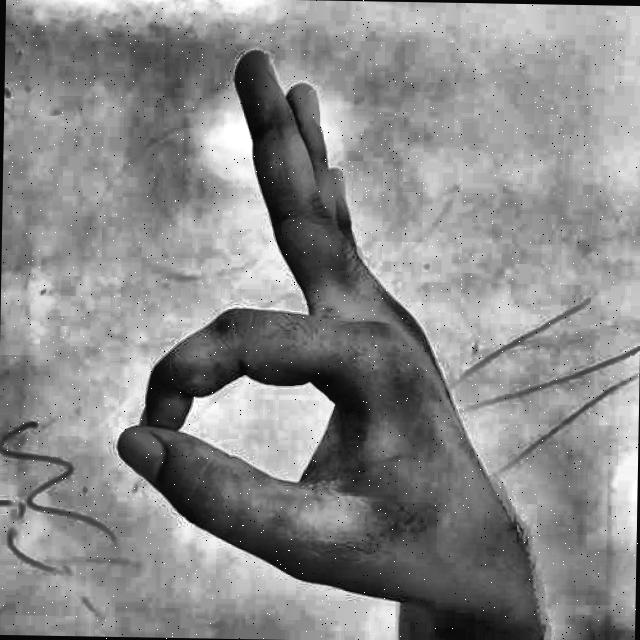Ca: (98, 28, 548, 640)
